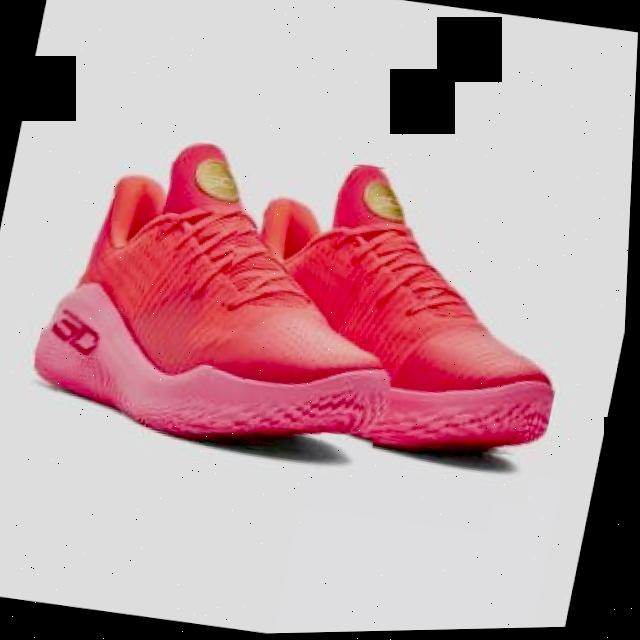shoe: (26, 121, 437, 472), (201, 147, 598, 473)
